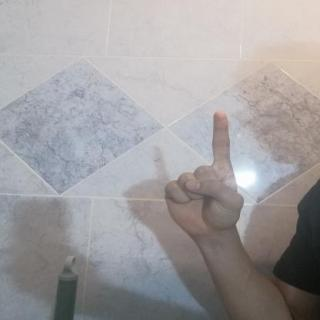BAA: (156, 107, 254, 246)
